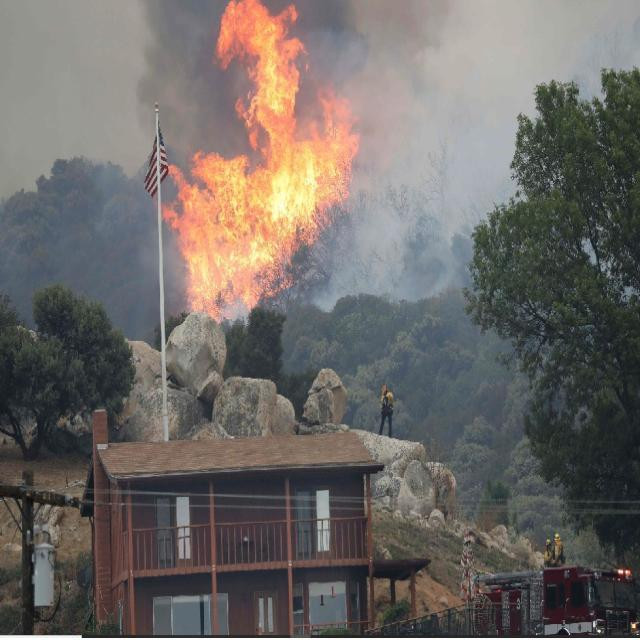Fire: (165, 156, 303, 316), (220, 0, 302, 153), (306, 86, 358, 235)
Smoke: (360, 90, 461, 298), (304, 5, 456, 86), (139, 2, 219, 152)
